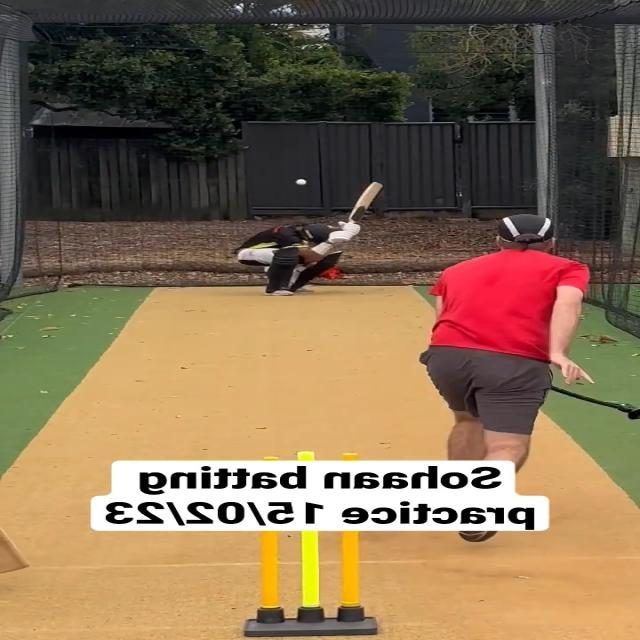ball: (296, 179, 308, 185)
stump: (240, 532, 377, 636)
